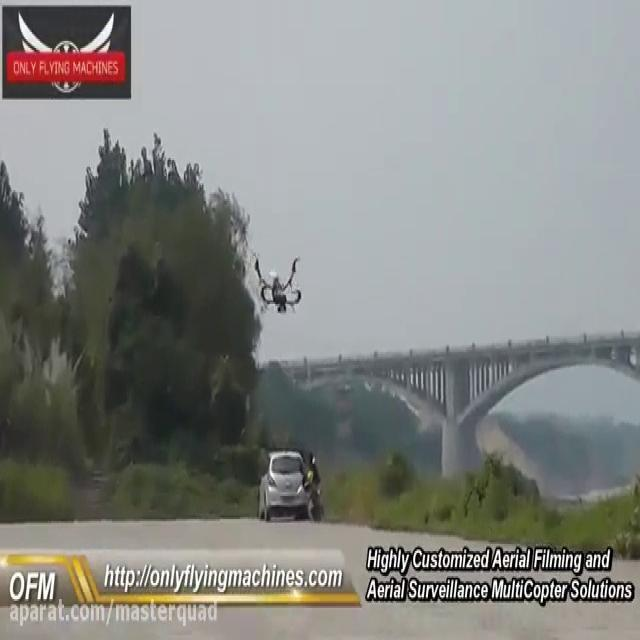drone: (253, 247, 305, 309)
